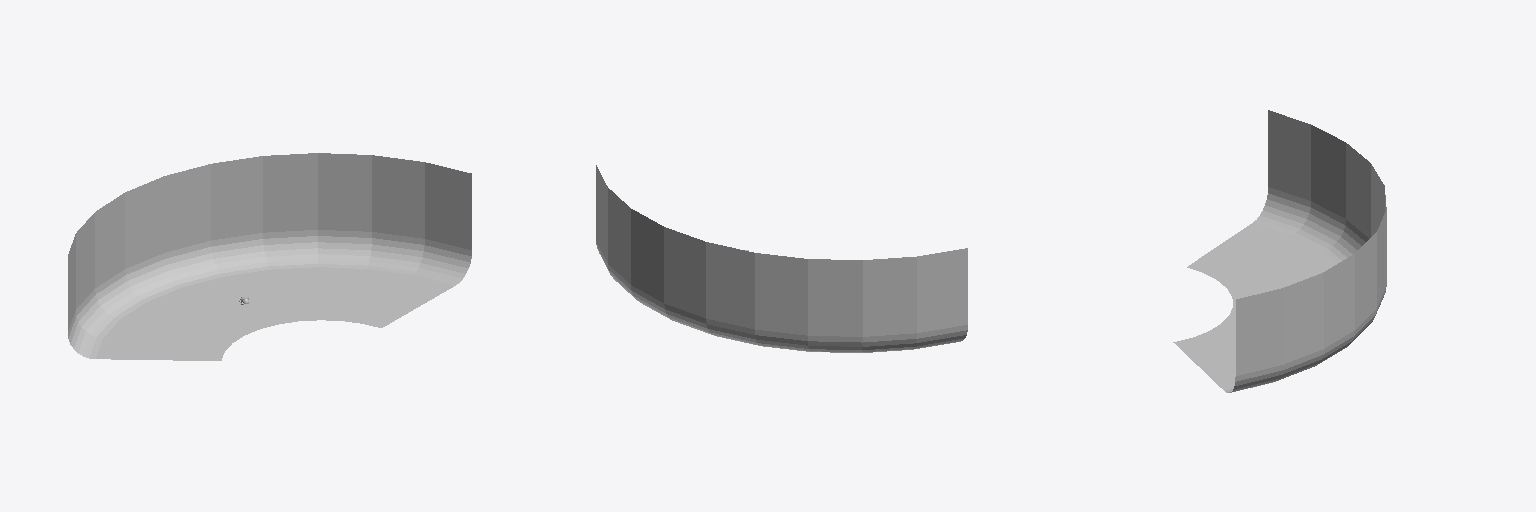
Rendered from juguete.obj.
3 renders of one model, left to right at view 1: azimuth 30°, elevation 25°; view 2: azimuth 150°, elevation 25°; view 3: azimuth 270°, elevation 25°, orthographic.
Visible parts, largest first — view 1: Line002; view 2: Line002; view 3: Line002.
Part boxes in pixels (x1,y1,x2,y2): Line002: (68,153,471,360); Line002: (596,165,967,352); Line002: (1173,110,1386,392).
Bounding box in the file's own units: 7979 × 2008 × 3794.